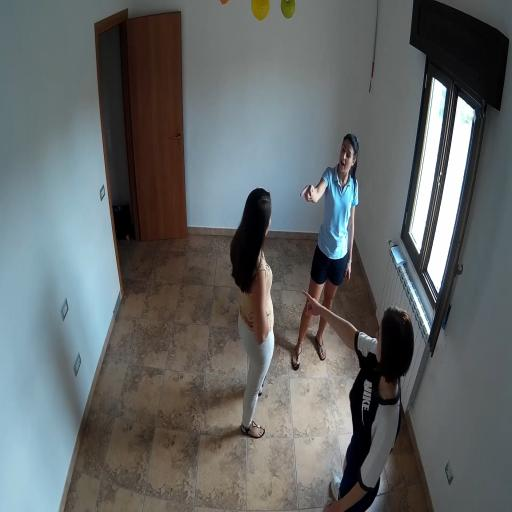nao-violencia: (292, 121, 417, 512)
